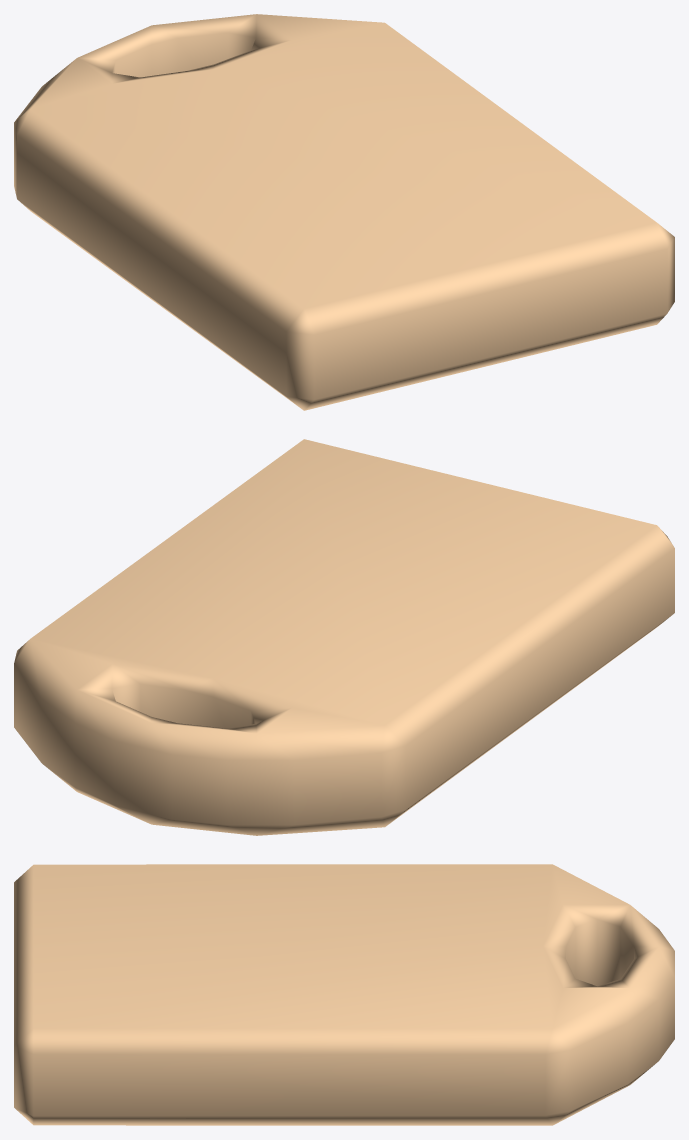
The picture shows the model from 3 angles, top to bottom: view 1: azimuth 30°, elevation 25°; view 2: azimuth 150°, elevation 25°; view 3: azimuth 270°, elevation 25°; orthographic projection. The views are drawn at different scales.
Parts seen in each view (by area): view 1: prop.097; view 2: prop.097; view 3: prop.097.
Boxes of the visible parts, x1,y1,x2,y2 form: prop.097: (14,14,674,410); prop.097: (14,439,674,835); prop.097: (14,864,674,1125).
Bounding box in the file's own units: 0.2618 × 0.0657 × 0.4055.
